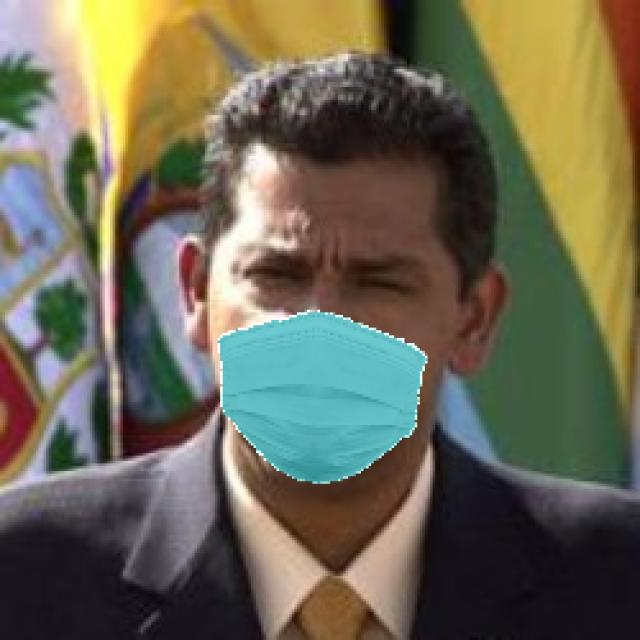mask: (199, 291, 441, 512)
